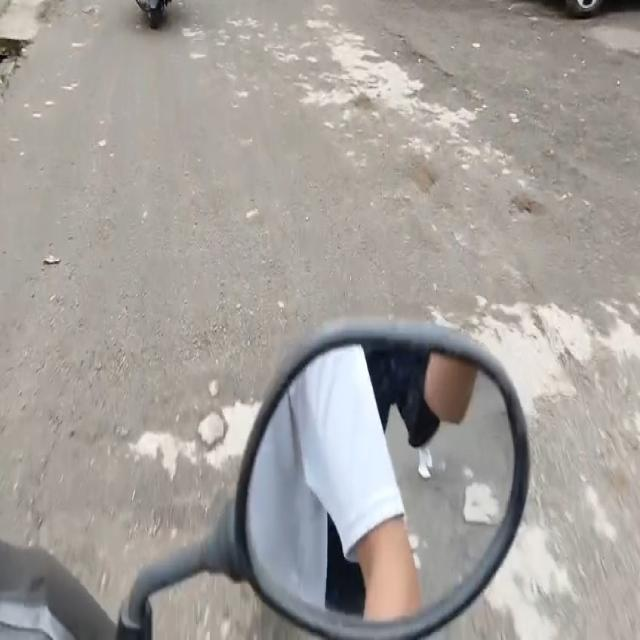road-pothole: (381, 27, 485, 122)
